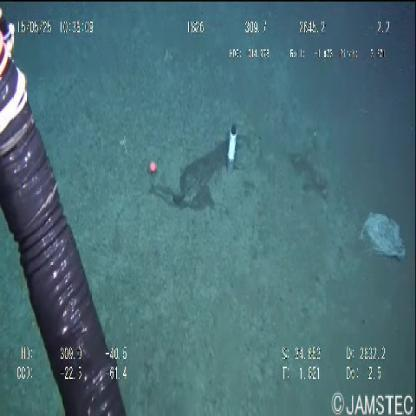Rác: (360, 213, 407, 263)
